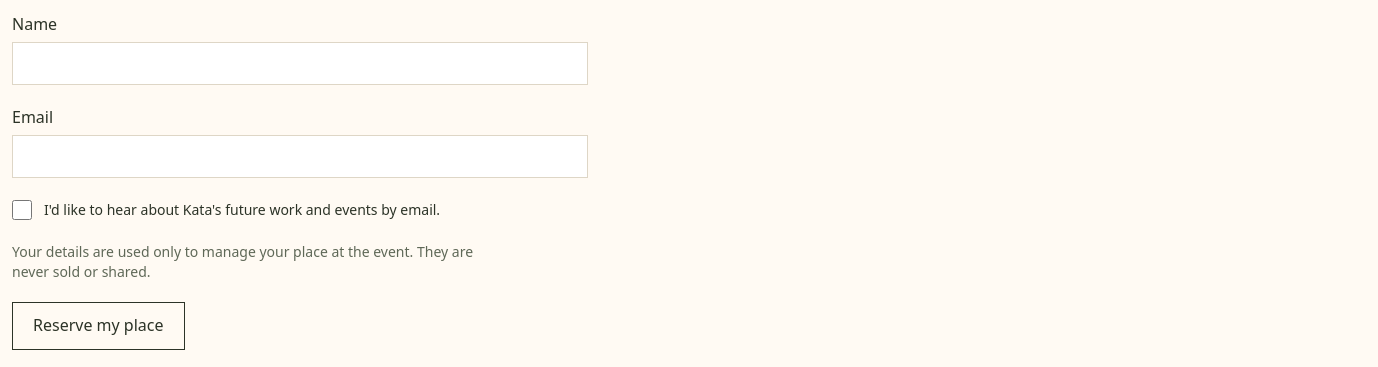
Test: the waiting list › offers the waiting-list calendar entry, not the guest one
The width and height of the screenshot is (1378, 367).
Type "Guest" into the field labelled "Name" at point(300, 63), box [12,42,588,85]
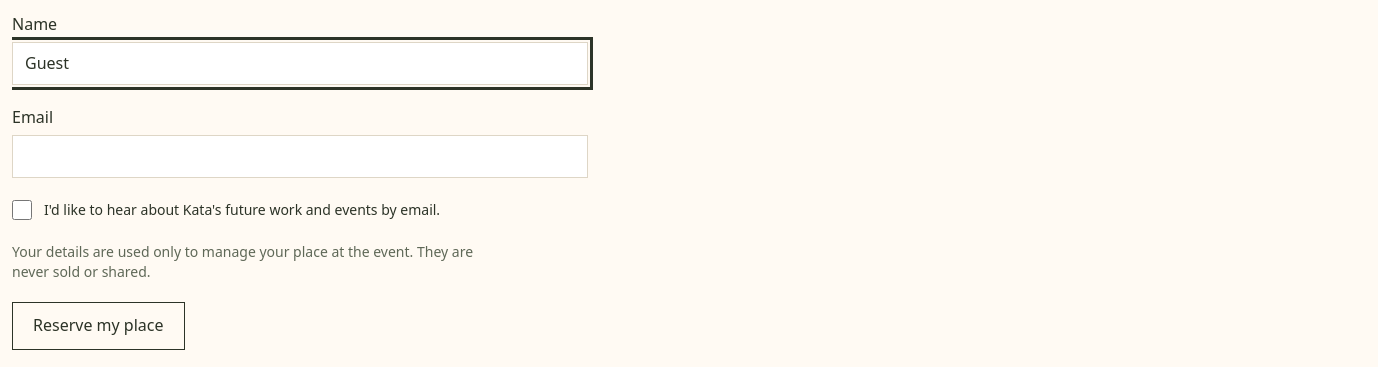
Type "guest@example.com" into the field labelled "Email" at point(300, 157), box [12,135,588,178]
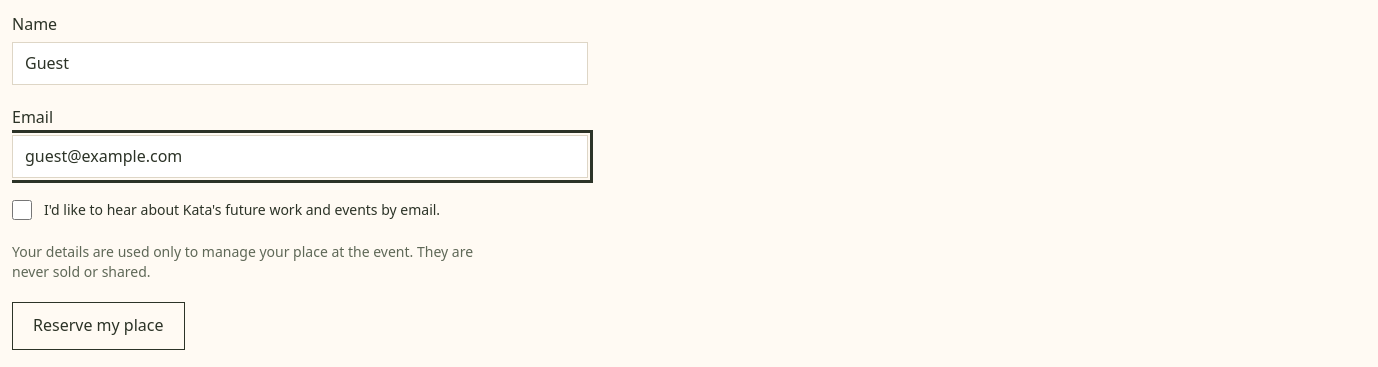
Click the button "Reserve my place" at point(98, 326), box [12,302,184,350]
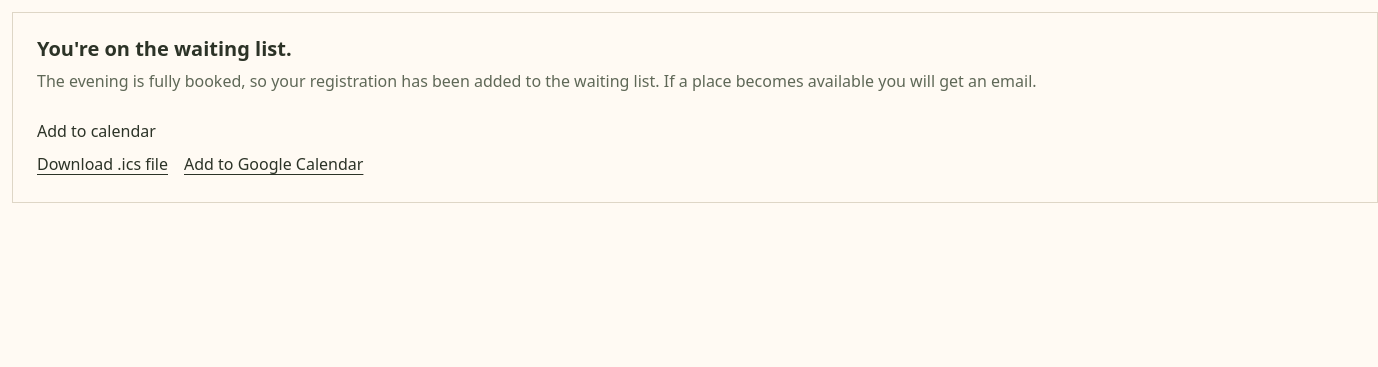
Expected: the heading "You're on the waiting list." is shown, [37,35,292,62]
